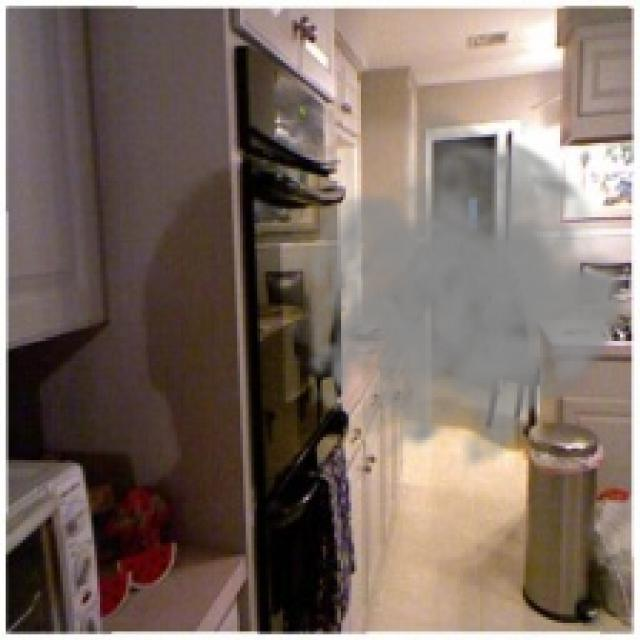Smoke: (286, 103, 634, 483)
